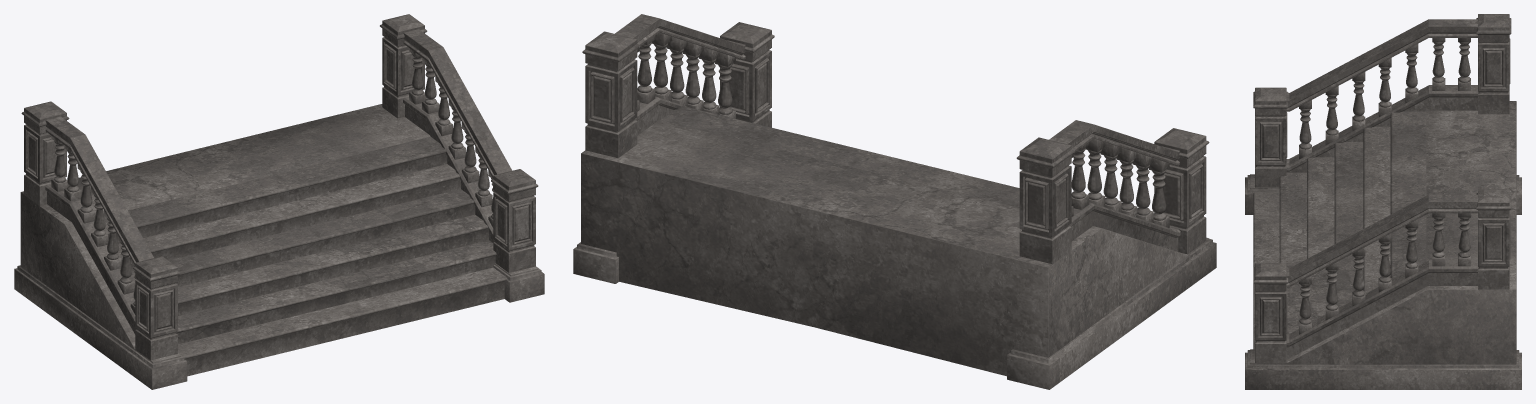
The model's file is SK6 STAIR EXT.fbx.
3 views of the same model, side by side, from view 1: azimuth 30°, elevation 25°; view 2: azimuth 150°, elevation 25°; view 3: azimuth 270°, elevation 25° (orthographic). The views are drawn at different scales.
Parts seen in each view (by area): view 1: SK6 STAIR EXT; view 2: SK6 STAIR EXT; view 3: SK6 STAIR EXT.
Boxes of the visible parts, left/top/right/bottom form: SK6 STAIR EXT: left=14, top=14, right=544, bottom=389; SK6 STAIR EXT: left=573, top=14, right=1216, bottom=389; SK6 STAIR EXT: left=1245, top=14, right=1521, bottom=389.
Bounding box in the file's own units: 440 × 200 × 267.
